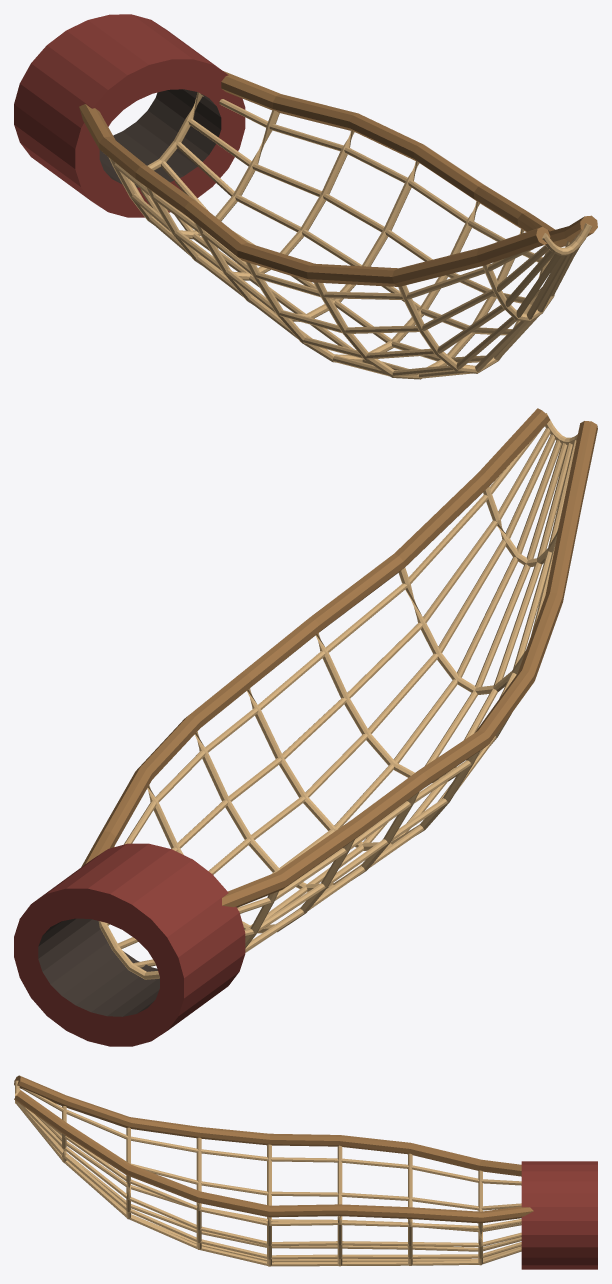
3 renders of one model, top to bottom at view 1: azimuth 30°, elevation 25°; view 2: azimuth 150°, elevation 25°; view 3: azimuth 270°, elevation 25°, orthographic. The views are drawn at different scales.
Visible parts, largest first — view 1: WholeOpenWristCuffAndInnerWall, WholeContinuousCurvedRim0, WholeContinuousCurvedRim1, WholeLengthwiseCatchingLattice01, WholeLengthwiseCatchingLattice02, WholeLengthwiseCatchingLattice00, WholeLengthwiseCatchingLattice08, WholeLengthwiseCatchingLattice07, WholeLengthwiseCatchingLattice04, WholeLengthwiseCatchingLattice06, WholeDeepCrossRib04, WholeLengthwiseCatchingLattice03 (+9 smaller); view 2: WholeOpenWristCuffAndInnerWall, WholeContinuousCurvedRim0, WholeContinuousCurvedRim1, WholeLengthwiseCatchingLattice06, WholeLengthwiseCatchingLattice07, WholeLengthwiseCatchingLattice08, WholeLengthwiseCatchingLattice05, WholeLengthwiseCatchingLattice04, WholeLengthwiseCatchingLattice02, WholeLengthwiseCatchingLattice03, WholeDeepCrossRib04, WholeDeepCrossRib03 (+6 smaller); view 3: WholeOpenWristCuffAndInnerWall, WholeContinuousCurvedRim1, WholeContinuousCurvedRim0, WholeLengthwiseCatchingLattice06, WholeLengthwiseCatchingLattice07, WholeLengthwiseCatchingLattice05, WholeLengthwiseCatchingLattice00, WholeLengthwiseCatchingLattice08, WholeLengthwiseCatchingLattice03, WholeLengthwiseCatchingLattice01, WholeLengthwiseCatchingLattice02, WholeLengthwiseCatchingLattice04 (+6 smaller).
Part boxes in pixels (x1,y1,x2,y2): WholeOpenWristCuffAndInnerWall: [14, 14, 245, 217]; WholeContinuousCurvedRim0: [79, 104, 550, 286]; WholeContinuousCurvedRim1: [221, 71, 597, 247]; WholeLengthwiseCatchingLattice01: [108, 157, 549, 333]; WholeLengthwiseCatchingLattice02: [129, 179, 554, 359]; WholeLengthwiseCatchingLattice00: [114, 163, 534, 299]; WholeLengthwiseCatchingLattice08: [201, 94, 579, 265]; WholeLengthwiseCatchingLattice07: [188, 119, 579, 304]; WholeLengthwiseCatchingLattice04: [175, 215, 567, 378]; WholeLengthwiseCatchingLattice06: [176, 142, 578, 335]; WholeDeepCrossRib04: [245, 201, 479, 362]; WholeLengthwiseCatchingLattice03: [140, 189, 561, 376]; WholeOpenWristCuffAndInnerWall: [14, 843, 245, 1046]; WholeContinuousCurvedRim0: [222, 421, 597, 907]; WholeContinuousCurvedRim1: [81, 408, 550, 866]; WholeLengthwiseCatchingLattice06: [117, 434, 555, 948]; WholeLengthwiseCatchingLattice07: [106, 428, 550, 925]; WholeLengthwiseCatchingLattice08: [124, 429, 541, 844]; WholeLengthwiseCatchingLattice05: [133, 440, 561, 967]; WholeLengthwiseCatchingLattice04: [245, 443, 567, 929]; WholeLengthwiseCatchingLattice02: [245, 440, 576, 951]; WholeLengthwiseCatchingLattice03: [245, 443, 572, 952]; WholeDeepCrossRib04: [247, 688, 479, 850]; WholeDeepCrossRib03: [194, 731, 419, 892]; WholeOpenWristCuffAndInnerWall: [521, 1161, 597, 1269]; WholeContinuousCurvedRim1: [14, 1090, 533, 1223]; WholeContinuousCurvedRim0: [14, 1075, 521, 1176]; WholeLengthwiseCatchingLattice06: [17, 1103, 521, 1259]; WholeLengthwiseCatchingLattice07: [17, 1102, 521, 1246]; WholeLengthwiseCatchingLattice05: [17, 1104, 521, 1266]; WholeLengthwiseCatchingLattice00: [21, 1088, 521, 1185]; WholeLengthwiseCatchingLattice08: [41, 1119, 521, 1229]; WholeLengthwiseCatchingLattice03: [51, 1137, 521, 1251]; WholeLengthwiseCatchingLattice01: [19, 1089, 521, 1210]; WholeLengthwiseCatchingLattice02: [36, 1115, 521, 1231]; WholeLengthwiseCatchingLattice04: [84, 1175, 521, 1262].
Size of the model in its own units: 0.3085 by 0.3372 by 0.9957.
